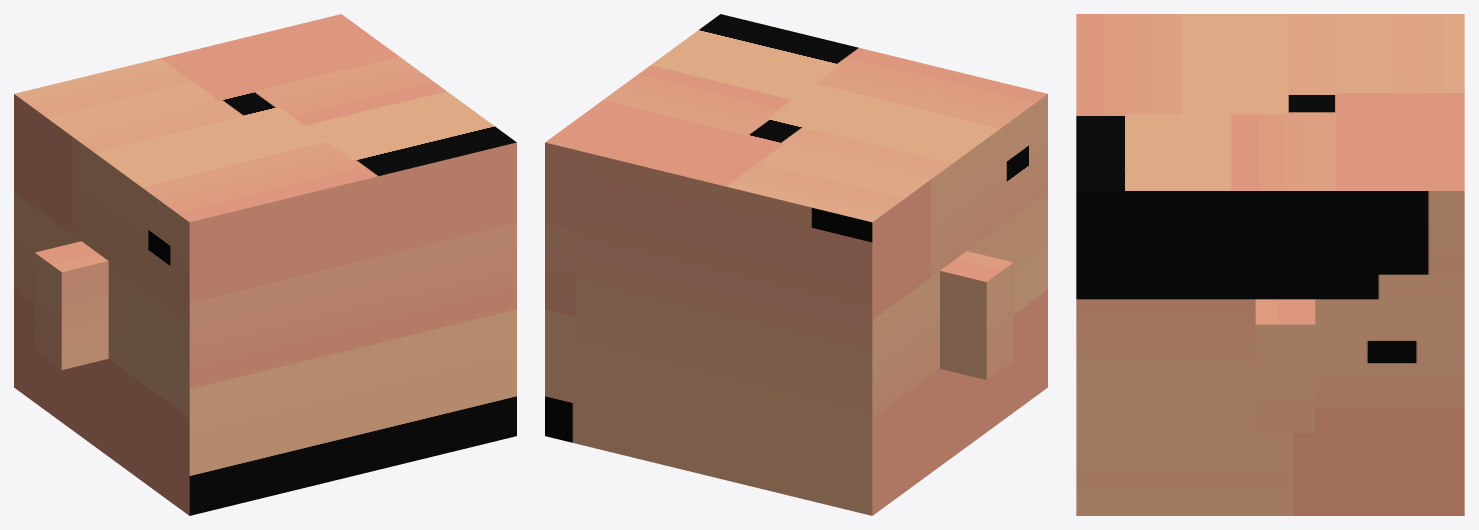
File: Head006.fbx
3 views of the same model, side by side, from view 1: azimuth 30°, elevation 25°; view 2: azimuth 150°, elevation 25°; view 3: azimuth 270°, elevation 25° (orthographic). The views are drawn at different scales.
Parts seen in each view (by area): view 1: Head006; view 2: Head006; view 3: Head006.
Part boxes in pixels (left/top/right/bottom): Head006: left=14, top=14, right=516, bottom=515; Head006: left=545, top=14, right=1047, bottom=515; Head006: left=1076, top=14, right=1464, bottom=515.
Bounding box in the file's own units: 18 × 12 × 13.
